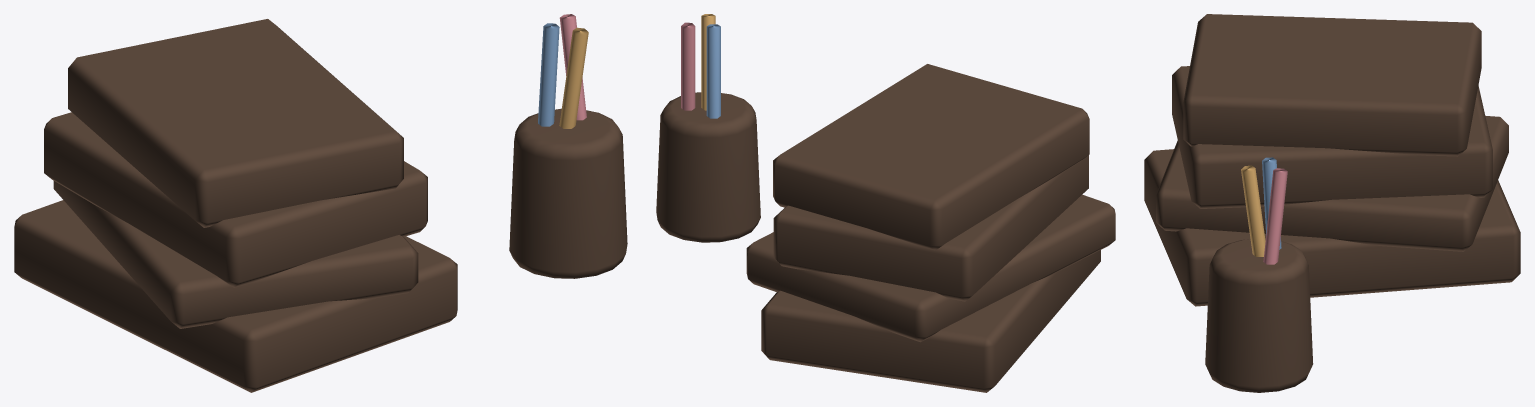
File: books.glb
3 renders of one model, left to right at view 1: azimuth 30°, elevation 25°; view 2: azimuth 150°, elevation 25°; view 3: azimuth 270°, elevation 25°, orthographic. The views are drawn at different scales.
Parts seen in each view (by area): view 1: books; view 2: books; view 3: books.
Boxes of the visible parts, box(x1,y1,x2,y2) form: books: box(14, 14, 627, 392); books: box(656, 14, 1115, 392); books: box(1144, 14, 1520, 392).
Size of the model in its own units: 0.4199 by 0.1896 by 0.3078.
